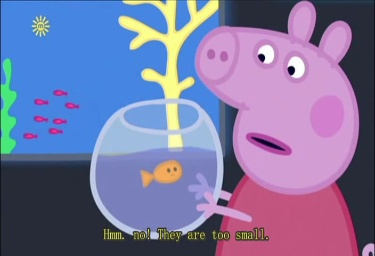Peppa: (193, 1, 364, 256)
